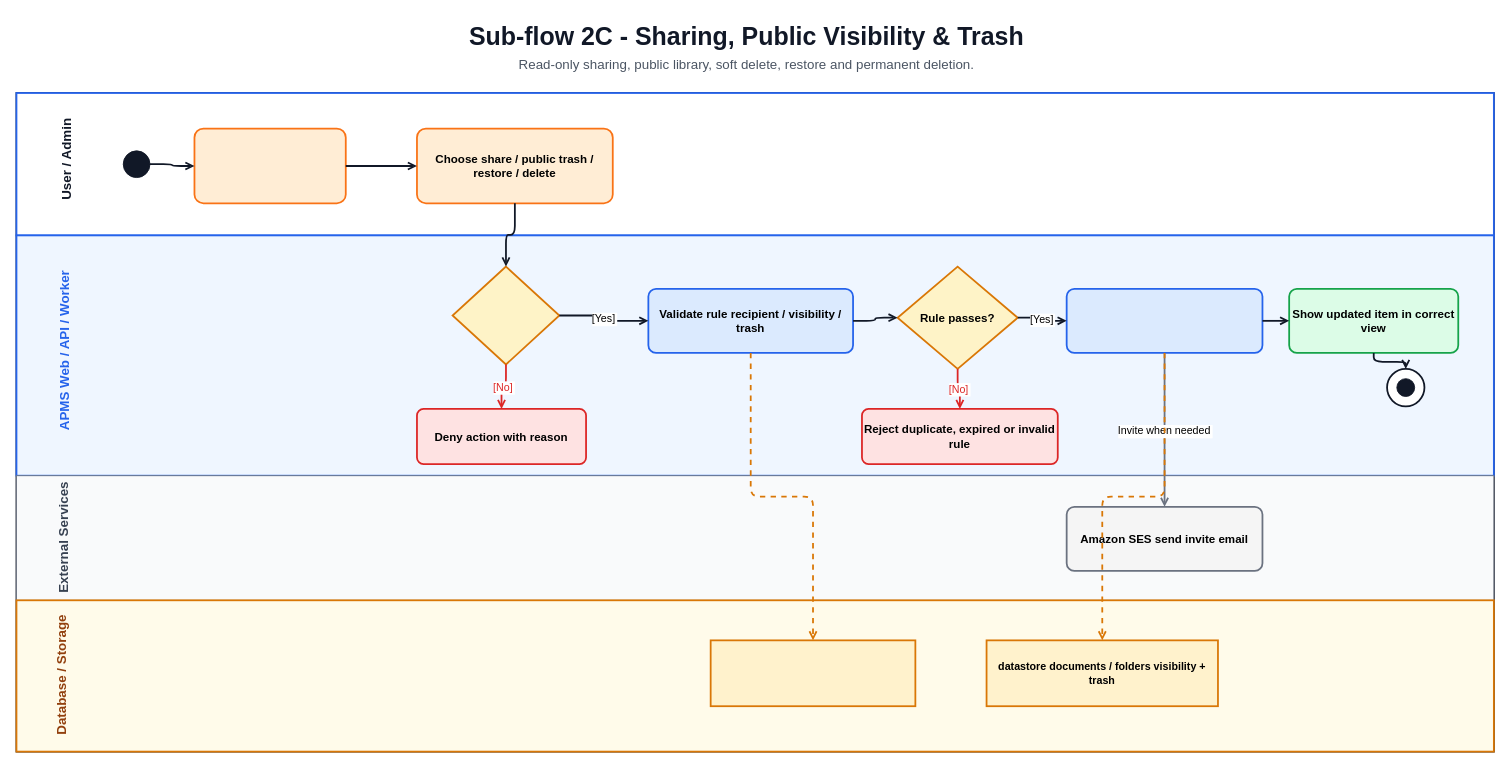
Image size: 1509x767. Some labels were removed from this diagram. Here are the shapes that lost their labels. From the top down, the centre of each, then its label:
At pixel 269 165: "Select owned item".
At pixel 505 315: "Owner?".
At pixel 1164 320: "Apply share, public, trash or restore".
At pixel 812 673: "datastore shares read-only grants".
